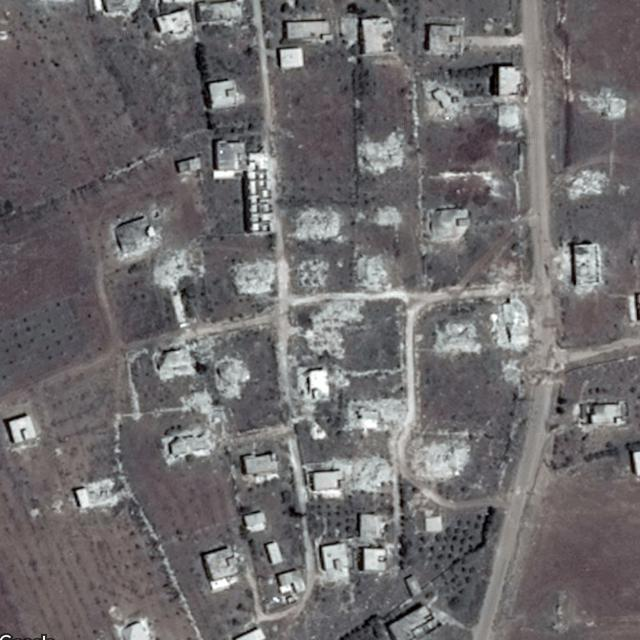damaged_building: (299, 300, 367, 359), (406, 431, 471, 482), (149, 334, 213, 381), (489, 298, 532, 353), (359, 122, 405, 172), (152, 245, 204, 289), (330, 454, 392, 490), (342, 398, 406, 432), (288, 206, 346, 242), (226, 257, 276, 296), (432, 318, 481, 354), (352, 249, 392, 292), (73, 479, 126, 510), (562, 165, 608, 198), (183, 390, 227, 424), (212, 358, 248, 399), (580, 88, 625, 118), (294, 257, 327, 287)
